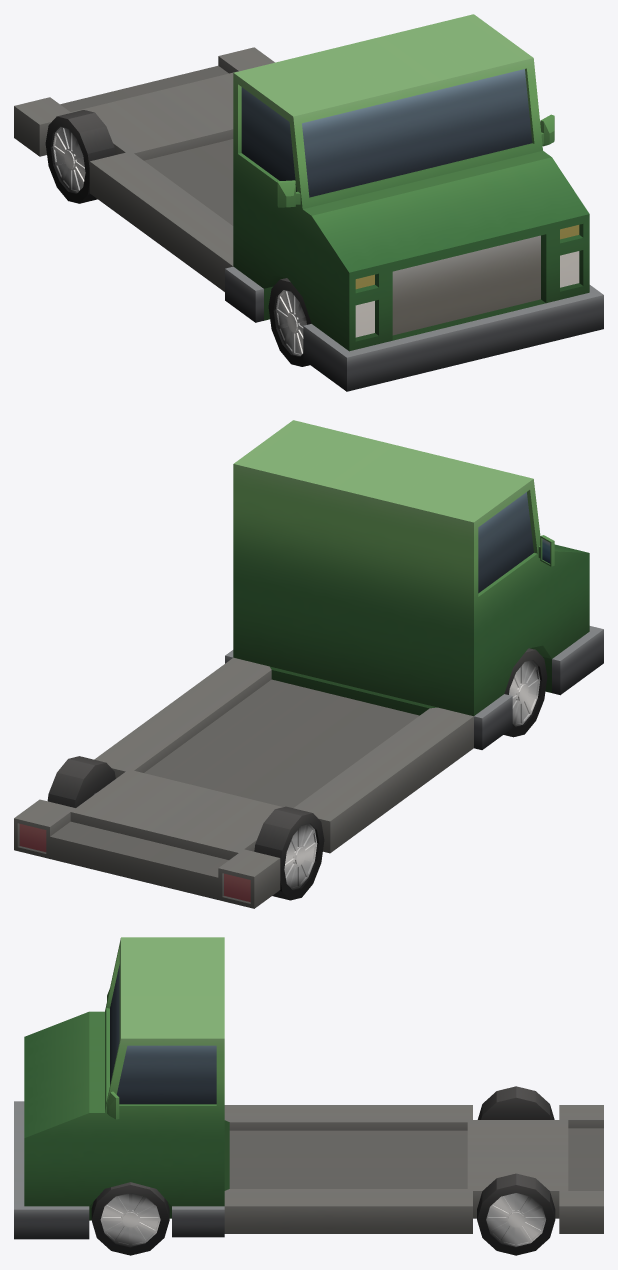
File: Truck_Main.fbx
3 views of the same model, one above another, from view 1: azimuth 30°, elevation 25°; view 2: azimuth 150°, elevation 25°; view 3: azimuth 270°, elevation 25° (orthographic). The views are drawn at different scales.
Visible parts, largest first — view 1: pCube135; view 2: pCube135; view 3: pCube135.
Part boxes in pixels (x1,y1,x2,y2): pCube135: [14, 14, 603, 391]; pCube135: [14, 420, 603, 908]; pCube135: [14, 937, 603, 1255].
Size of the model in its own units: 267 by 233 by 572.
